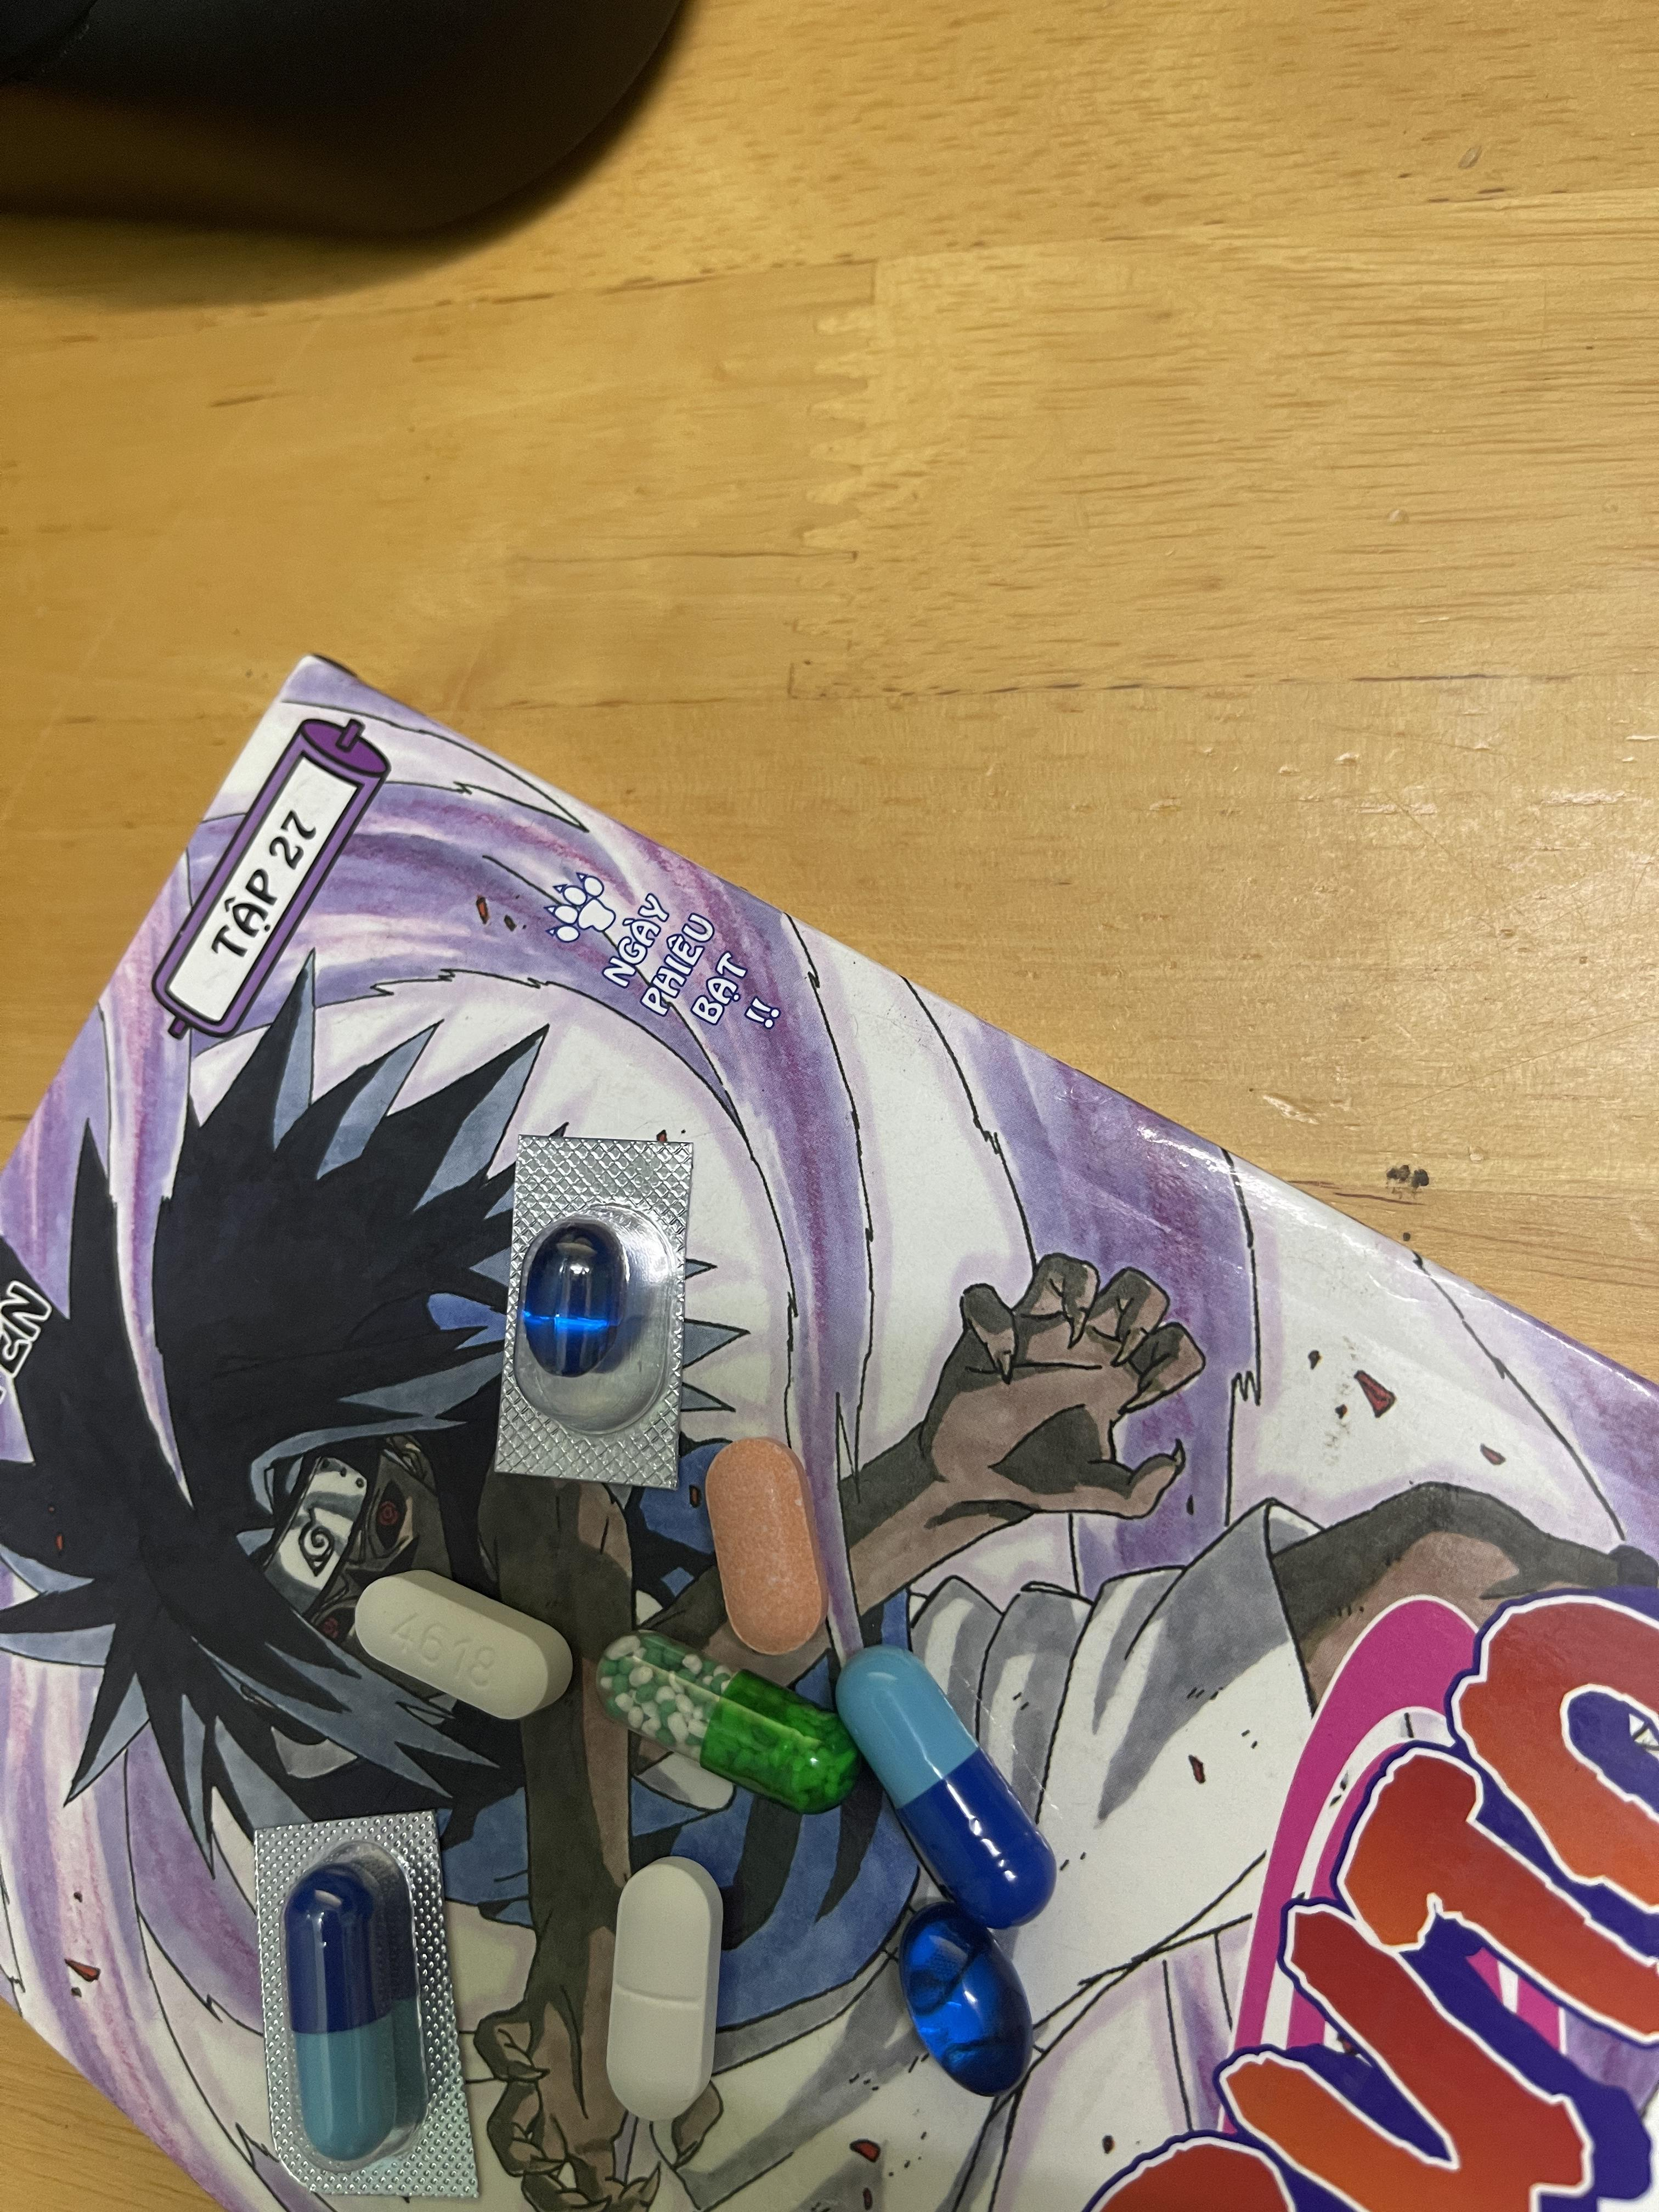Lincomyxin_500mg: (903, 1911, 1033, 2099), (521, 1223, 634, 1385)
Loratadine_10mg: (701, 1435, 828, 1662)
Paracetamol_350mg: (599, 1851, 727, 2123)
Paracetamol_500mg: (354, 1568, 575, 1723)
Paracetamol_650mg: (613, 1639, 849, 1806)
pill: (840, 1646, 1054, 1928), (286, 1860, 420, 2160)
